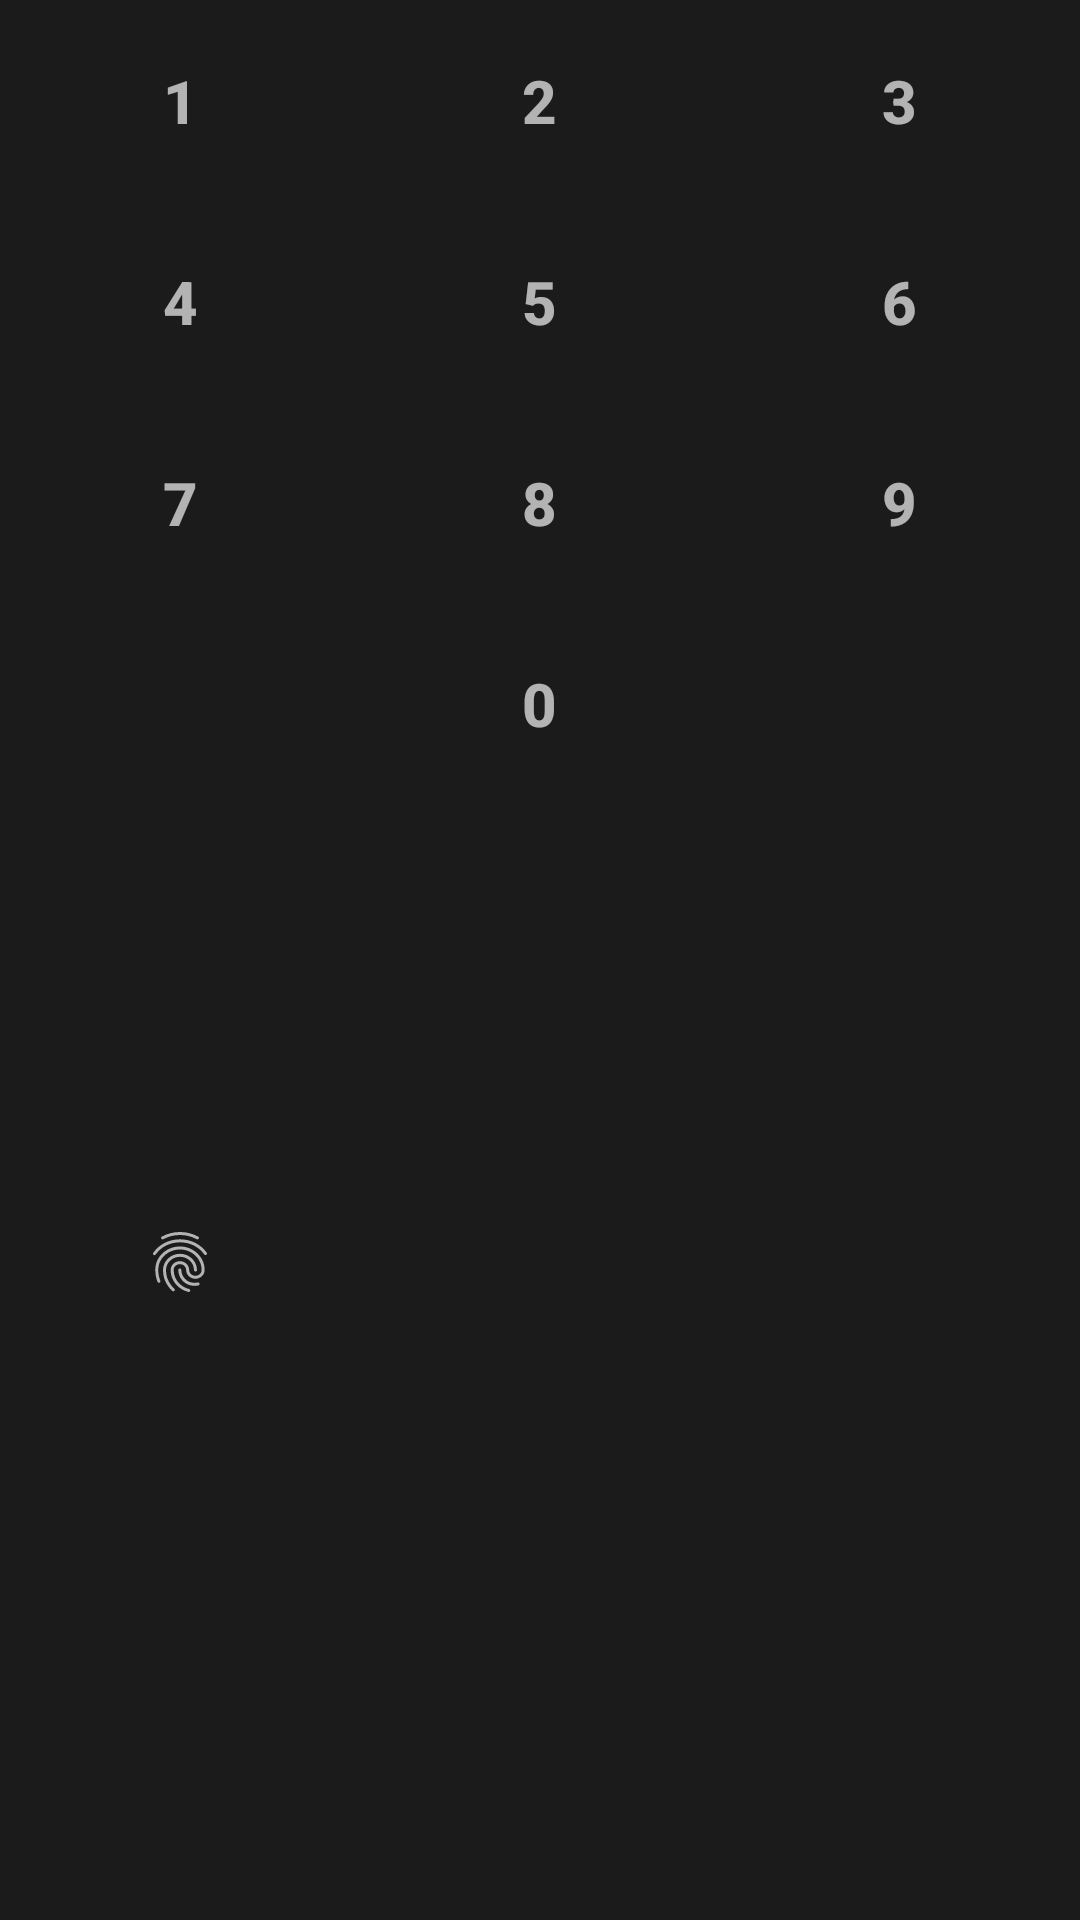

Where to tap for icons on this 1080px x 1920px app screen, as [x,y]:
fingerprint: [180,1262]
